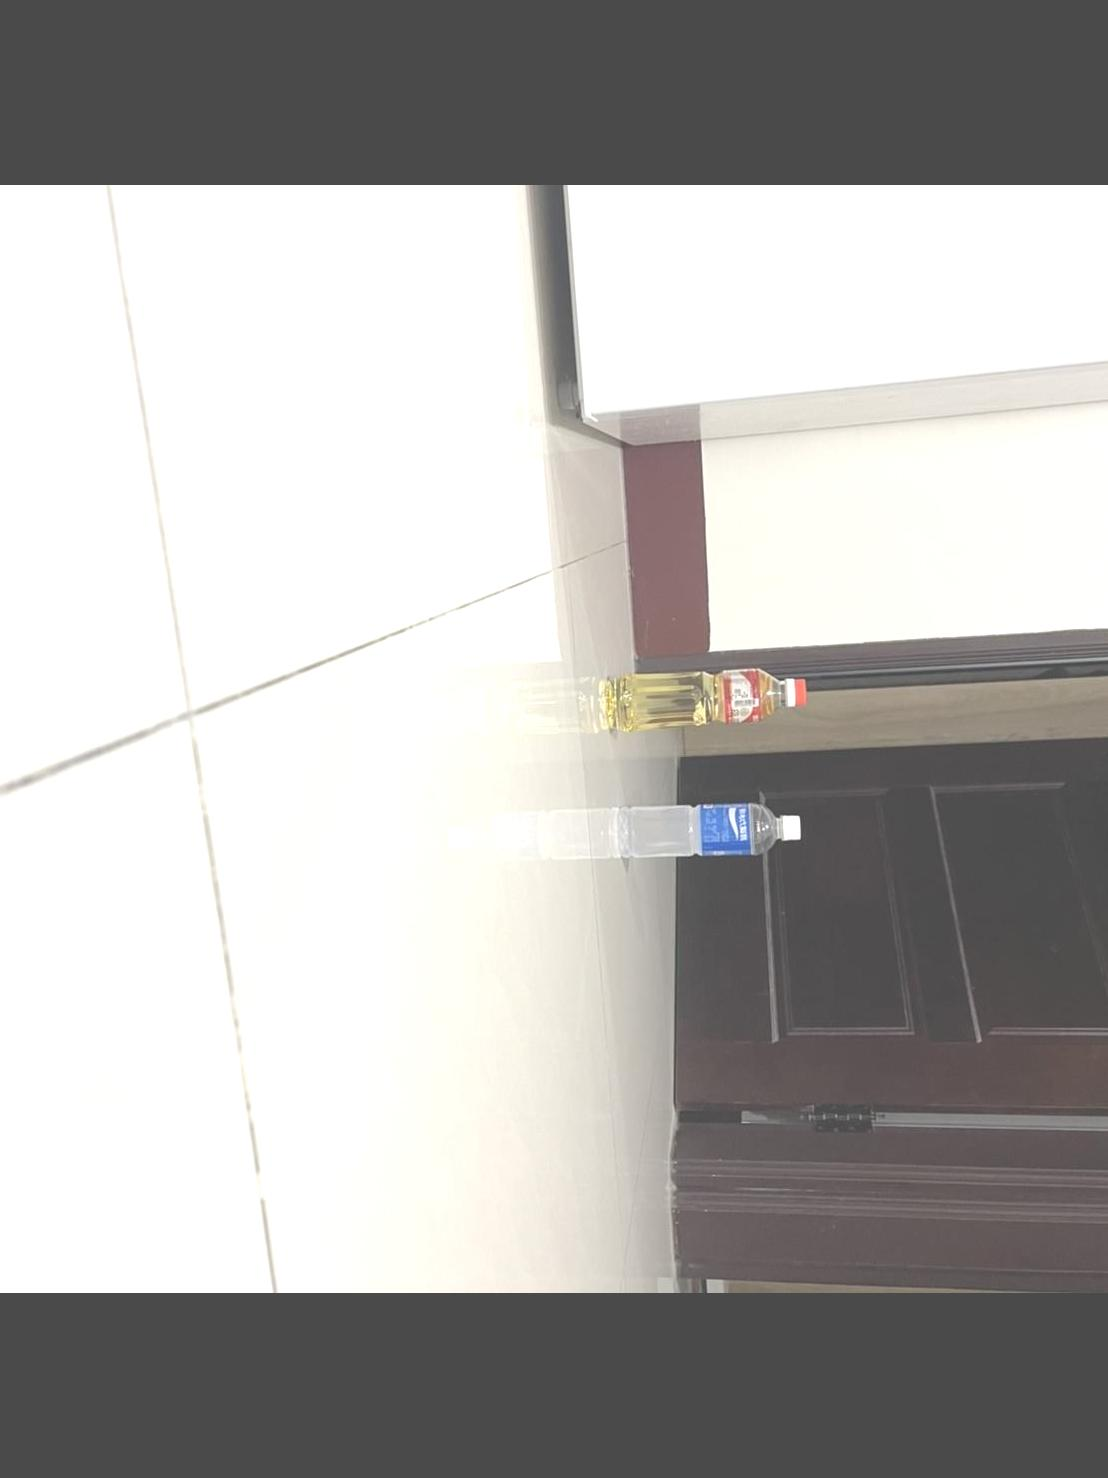bottle: (587, 659, 824, 740), (625, 788, 786, 871)
